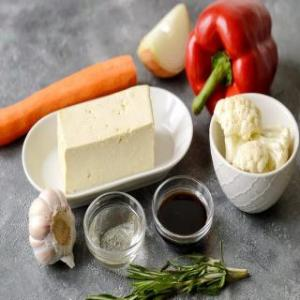bell_pepper: (185, 0, 281, 122)
carrot: (0, 49, 140, 154)
garlic: (26, 189, 78, 273)
onion: (137, 3, 193, 81)
